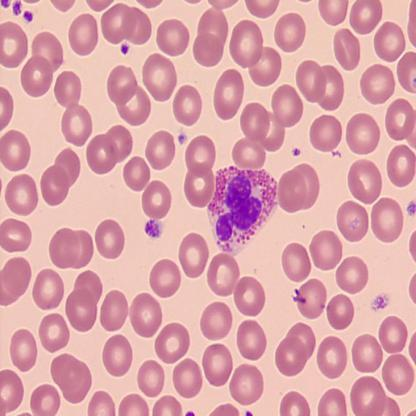Eosinophil: (209, 168, 280, 254)
